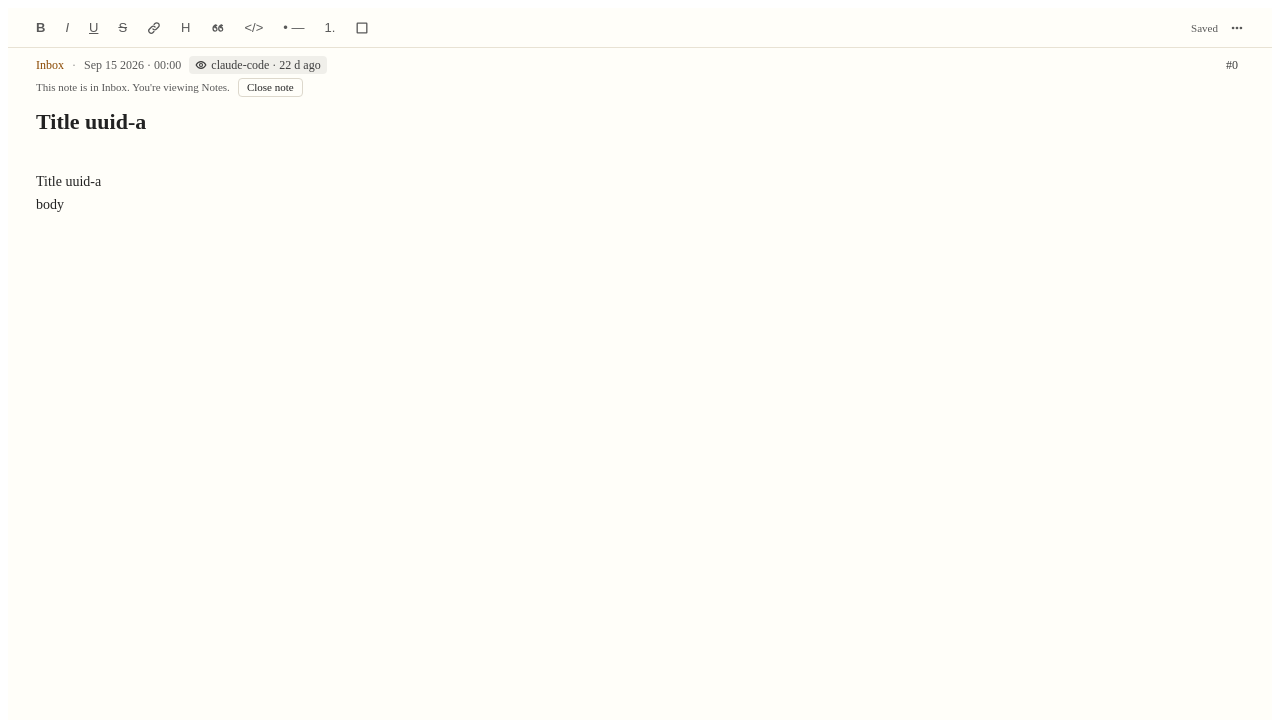
trust chip › a failed Mark reviewed brings the chip back with an error
This screenshot has width=1280, height=720.
Click the button with test id "trust-chip": [258, 65] box [189,56,327,74]
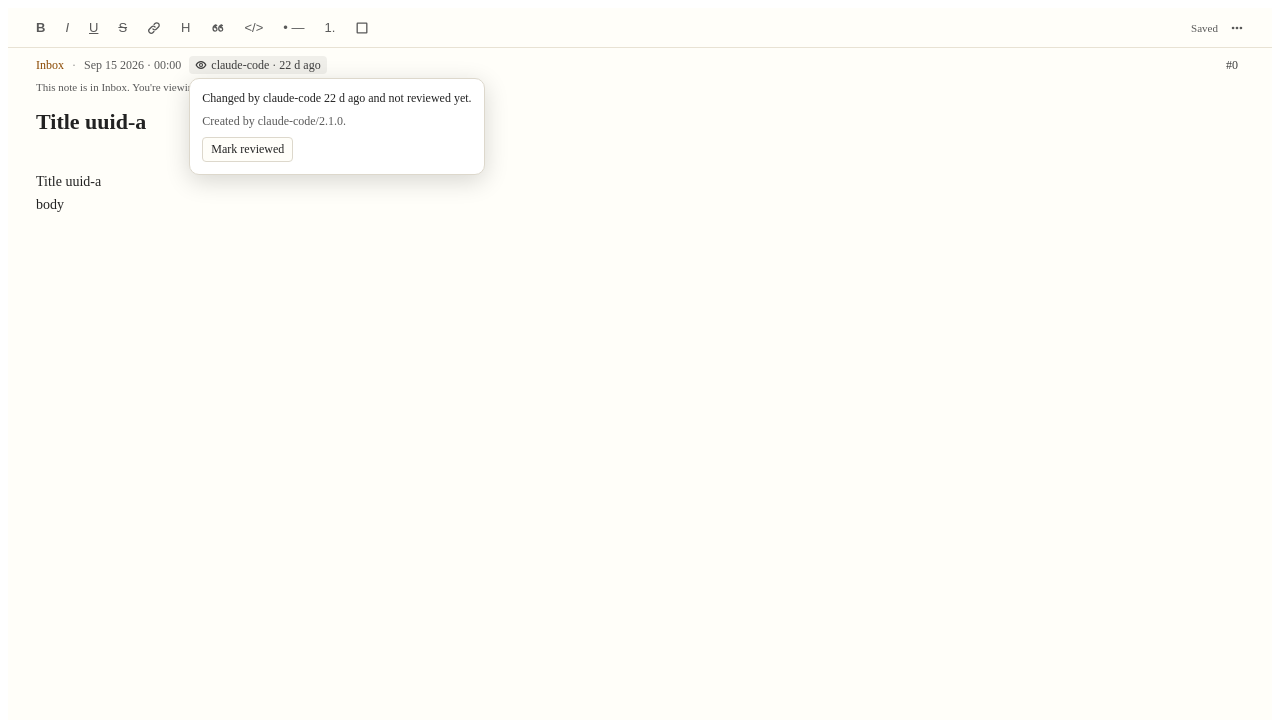
Click the button with class "mark-reviewed-btn": [248, 150] box [202,137,293,162]
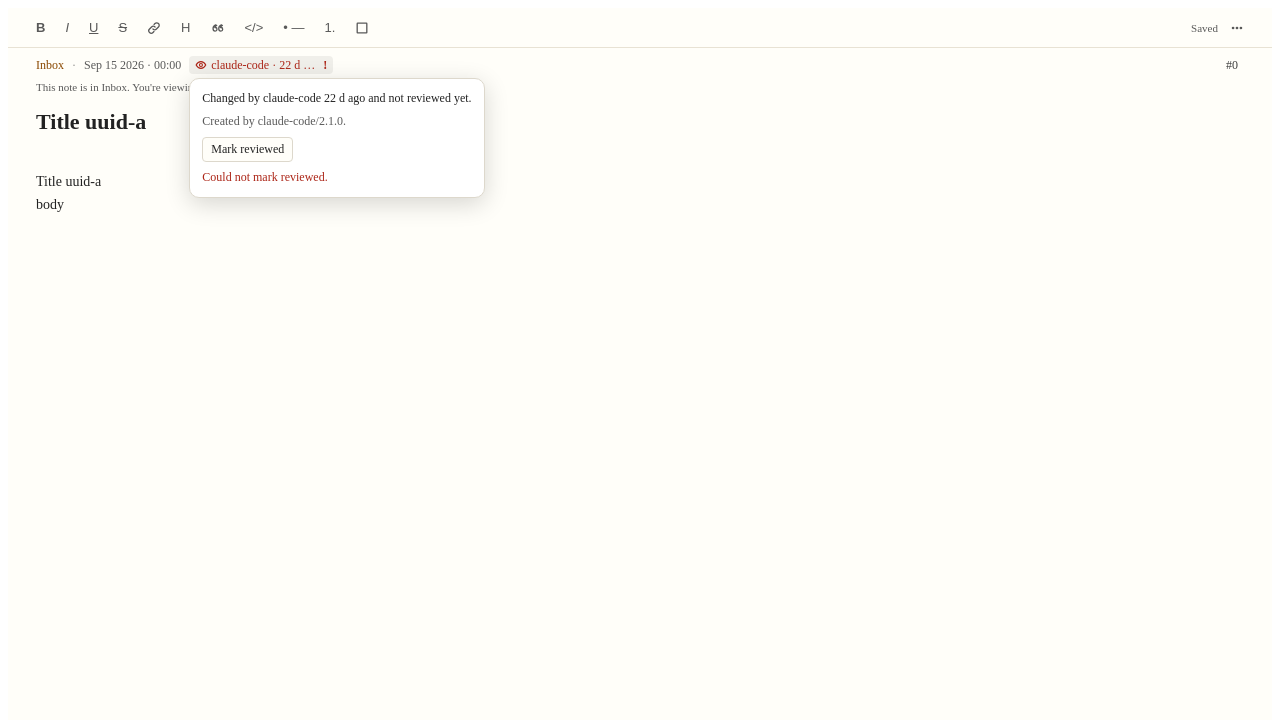
Expected: the button with test id "trust-chip" is shown, [189,56,333,74]
Expected: the dialog with test id "meta-status-popover" shows "Could not mark reviewed", [202,170,328,184]
